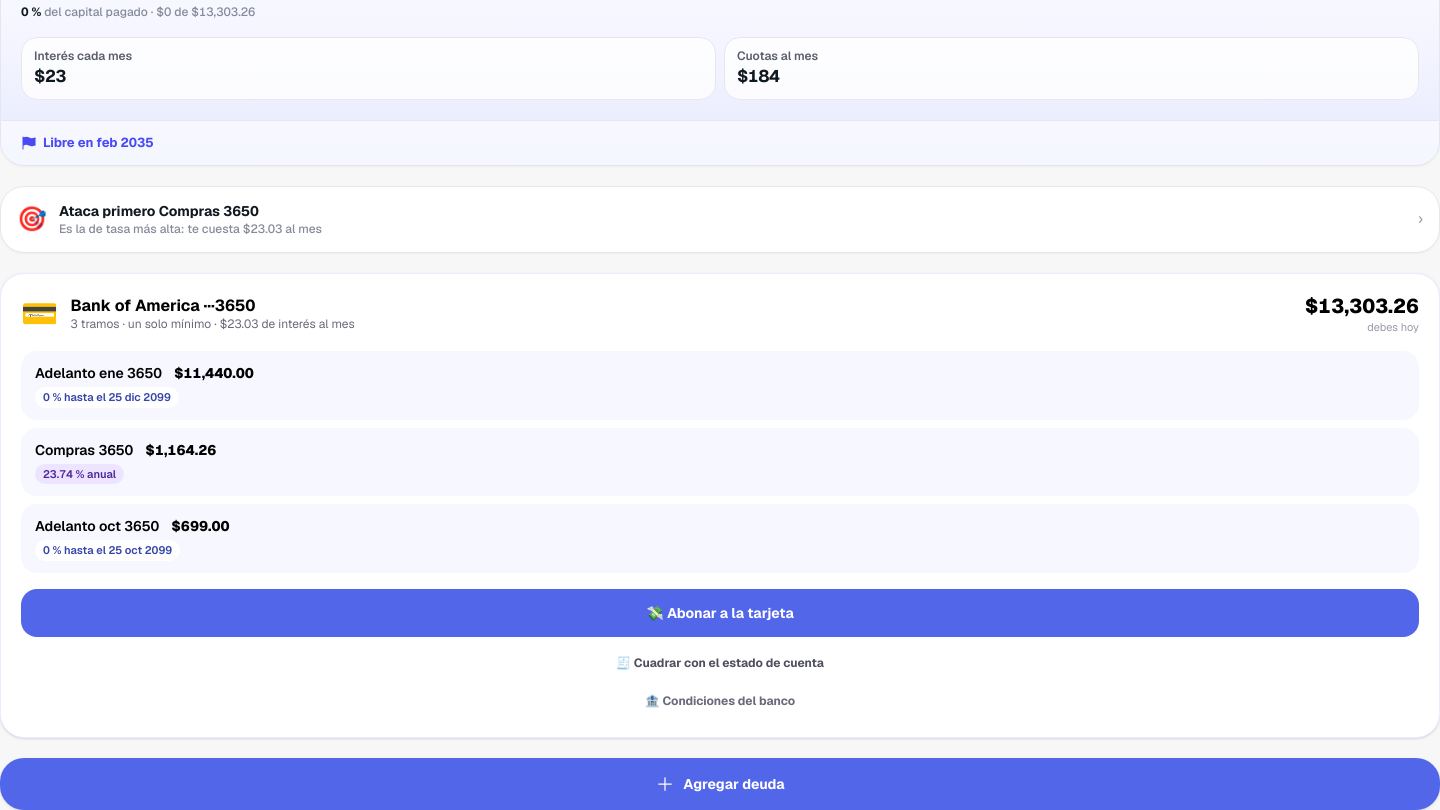
Scenario: la tarjeta dice de qué banco son sus reglas › sin condiciones en el snapshot el botón no se queda mudo: abre las de por defecto
(page scrolled)
What coordinates should you click on to do the following:
click the button "🏦 Condiciones del banco"
I would click on:
 (720, 701)
Its box is [21,685,1419,717].
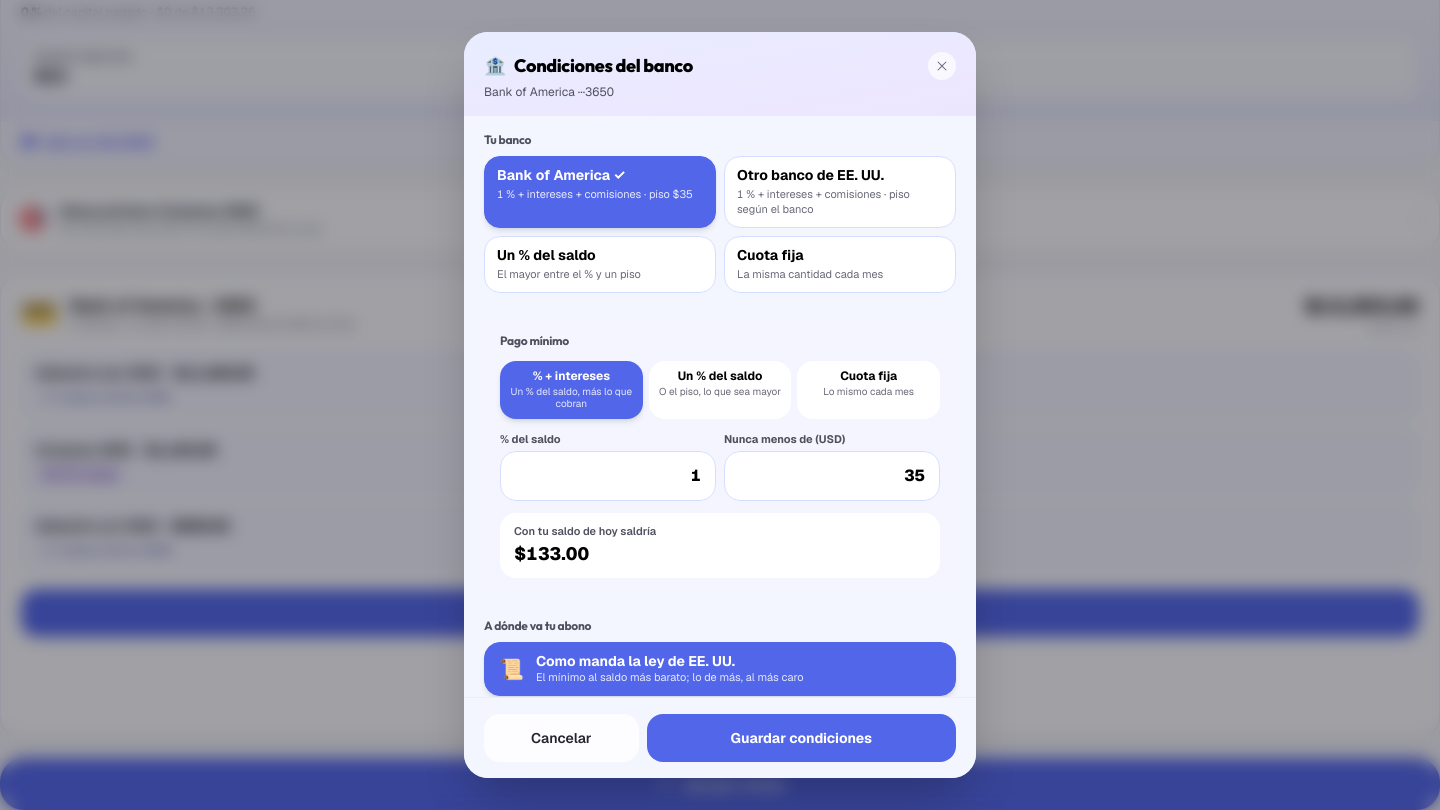
Check: the heading "Pago mínimo" is shown, box [500,333,569,348]
